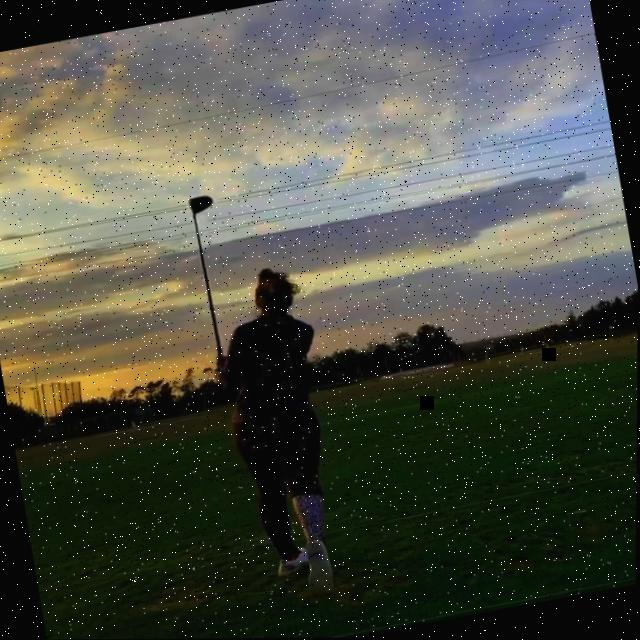ClubHead: (189, 193, 215, 215)
